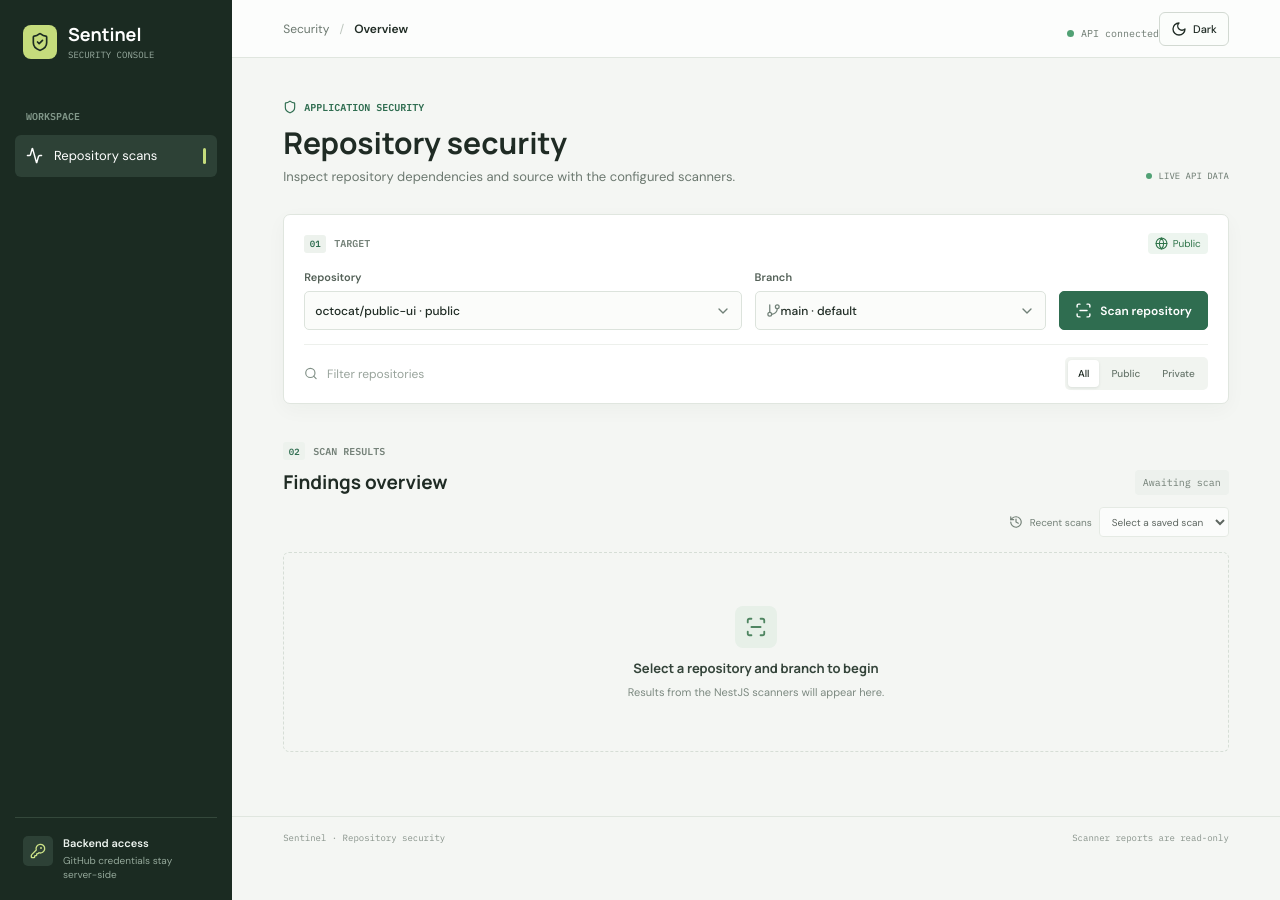
Scenario: Security dashboard › shows an empty scan and unavailable scanner state without inventing findings
Click the button "Scan repository" at (1134, 310), box [1059,291,1208,330]
(page scrolled)
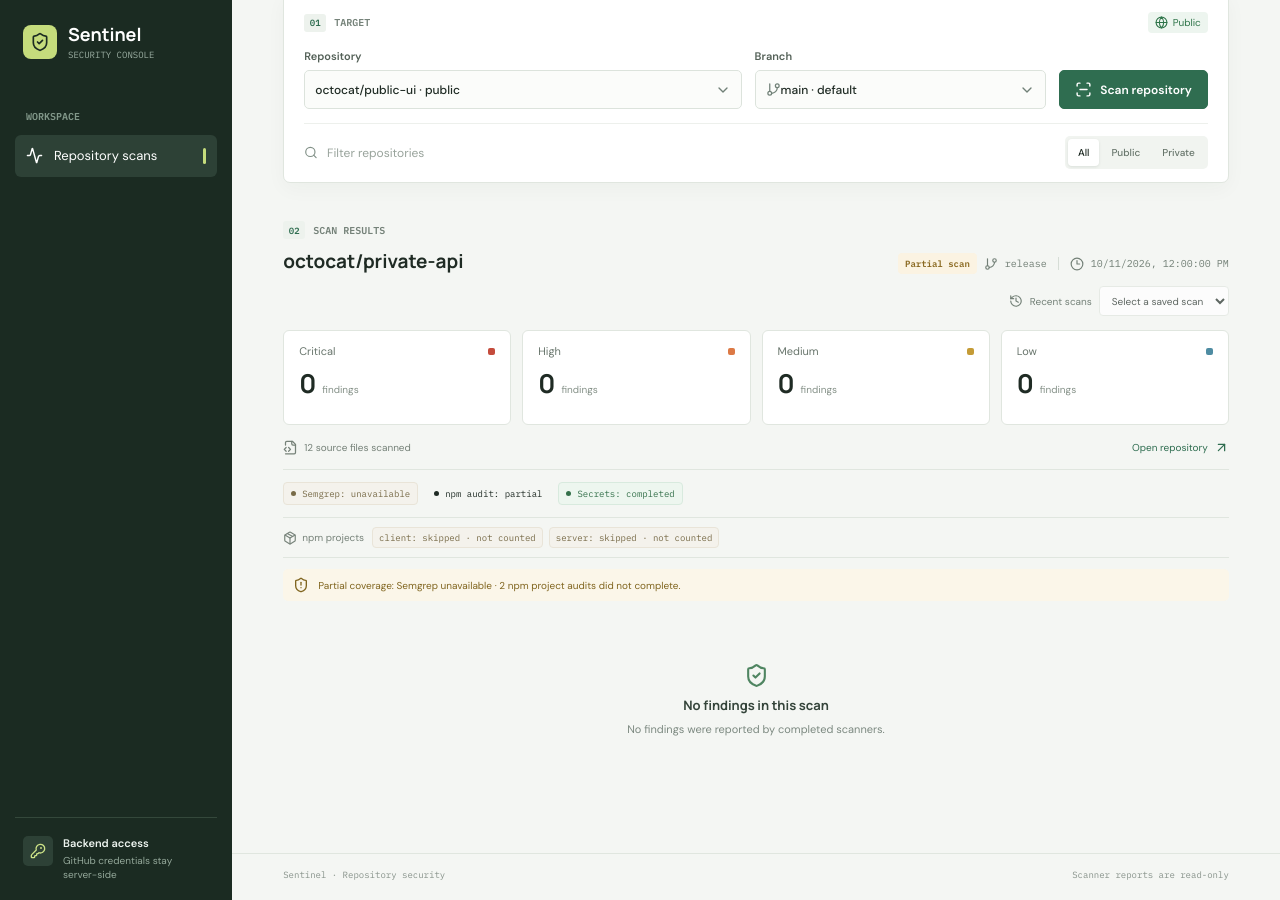
Expected: the text "No findings in this scan" is shown, [683,696,829,714]
Expected: the text "Semgrep: unavailable" is shown, [283,482,418,505]
Expected: the text "npm audit: partial" is shown, [434,488,542,499]
